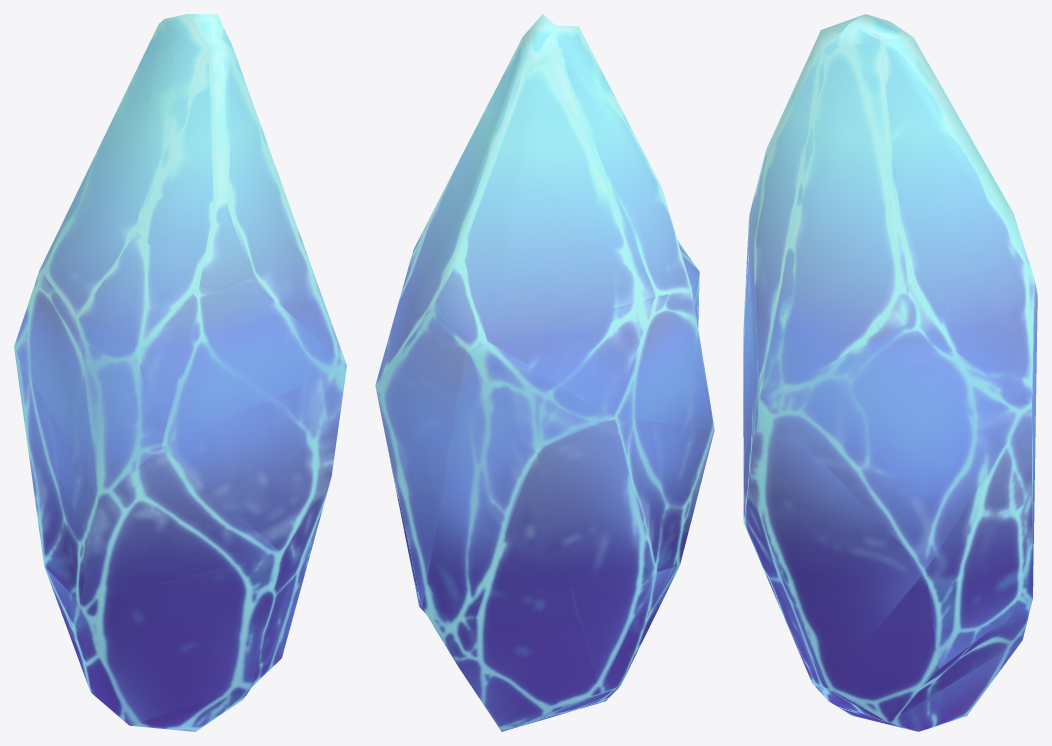
The model's file is stylized_crystal_baked_lighting_map.glb.
3 renders of one model, left to right at view 1: azimuth 30°, elevation 25°; view 2: azimuth 150°, elevation 25°; view 3: azimuth 270°, elevation 25°, orthographic. The views are drawn at different scales.
Parts seen in each view (by area): view 1: Ctystal_L; view 2: Ctystal_L; view 3: Ctystal_L.
Boxes of the visible parts, <box> form: Ctystal_L: <box>14,14,346,731</box>; Ctystal_L: <box>375,14,714,731</box>; Ctystal_L: <box>743,14,1037,731</box>.
Bounding box in the file's own units: 1.97 × 5.27 × 2.
1 material, 1 textured.
